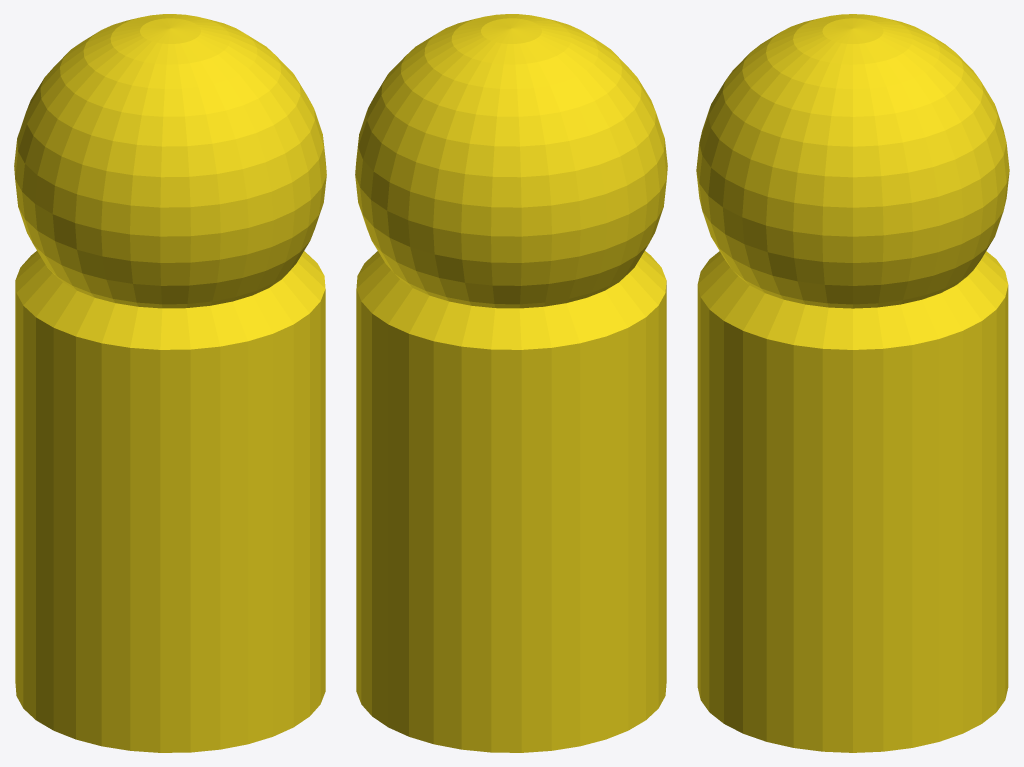
The model's file is pin.glb.
The picture shows the model from 3 angles, left to right: view 1: azimuth 30°, elevation 25°; view 2: azimuth 150°, elevation 25°; view 3: azimuth 270°, elevation 25°; orthographic projection.
Visible parts, largest first — view 1: Cylinder, Sphere; view 2: Cylinder, Sphere; view 3: Cylinder, Sphere.
Part boxes in pixels (box(x1,y1,x2,y2)): Cylinder: box(15, 251, 325, 752); Sphere: box(14, 14, 326, 308); Cylinder: box(356, 251, 666, 752); Sphere: box(355, 14, 667, 308); Cylinder: box(697, 251, 1008, 752); Sphere: box(696, 14, 1009, 308).
Size of the model in its own units: 0.9289 by 2.16 by 0.9289.
